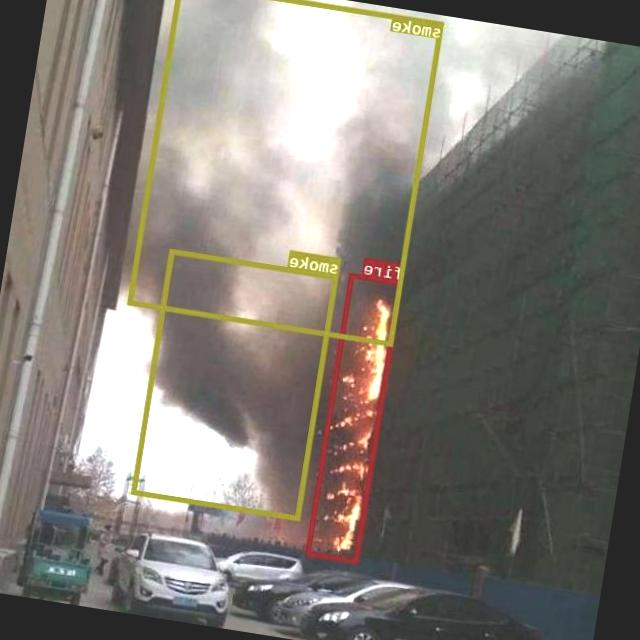fire: (306, 272, 404, 564)
smoke: (128, 0, 445, 345), (133, 248, 340, 521)
